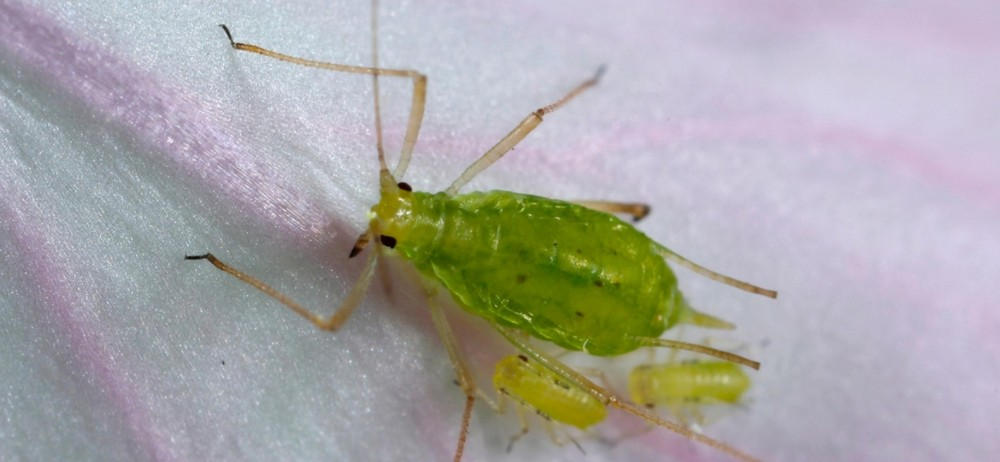Pulgon: (217, 34, 782, 440), (475, 339, 639, 453), (627, 332, 775, 442)
